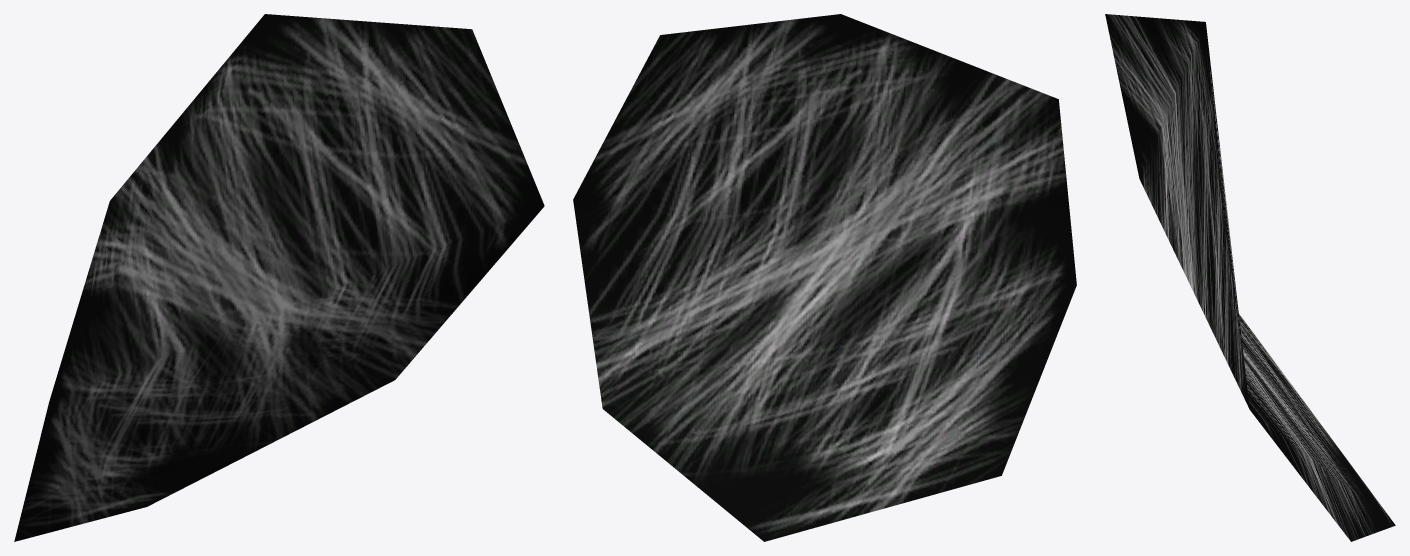
File: MIRKWOOD_SPIDERWEB_COVERS21.fbx
3 views of the same model, side by side, from view 1: azimuth 30°, elevation 25°; view 2: azimuth 150°, elevation 25°; view 3: azimuth 270°, elevation 25° (orthographic). The views are drawn at different scales.
Visible parts, largest first — view 1: MIRKWOOD_SPIDERWEB_COVERS21; view 2: MIRKWOOD_SPIDERWEB_COVERS21; view 3: MIRKWOOD_SPIDERWEB_COVERS21.
Boxes of the visible parts, <box> form: MIRKWOOD_SPIDERWEB_COVERS21: <box>14,14,544,541</box>; MIRKWOOD_SPIDERWEB_COVERS21: <box>573,14,1076,541</box>; MIRKWOOD_SPIDERWEB_COVERS21: <box>1105,14,1395,541</box>.
Bounding box in the file's own units: 19988 × 19468 × 10083.
Materials: 1 (1 with a texture image).
